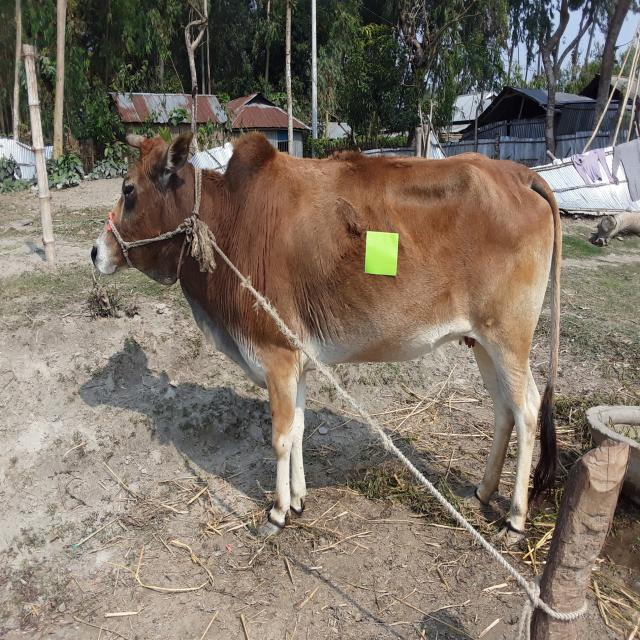badan_sapi: (251, 150, 545, 370)
sapi: (84, 124, 564, 536)
